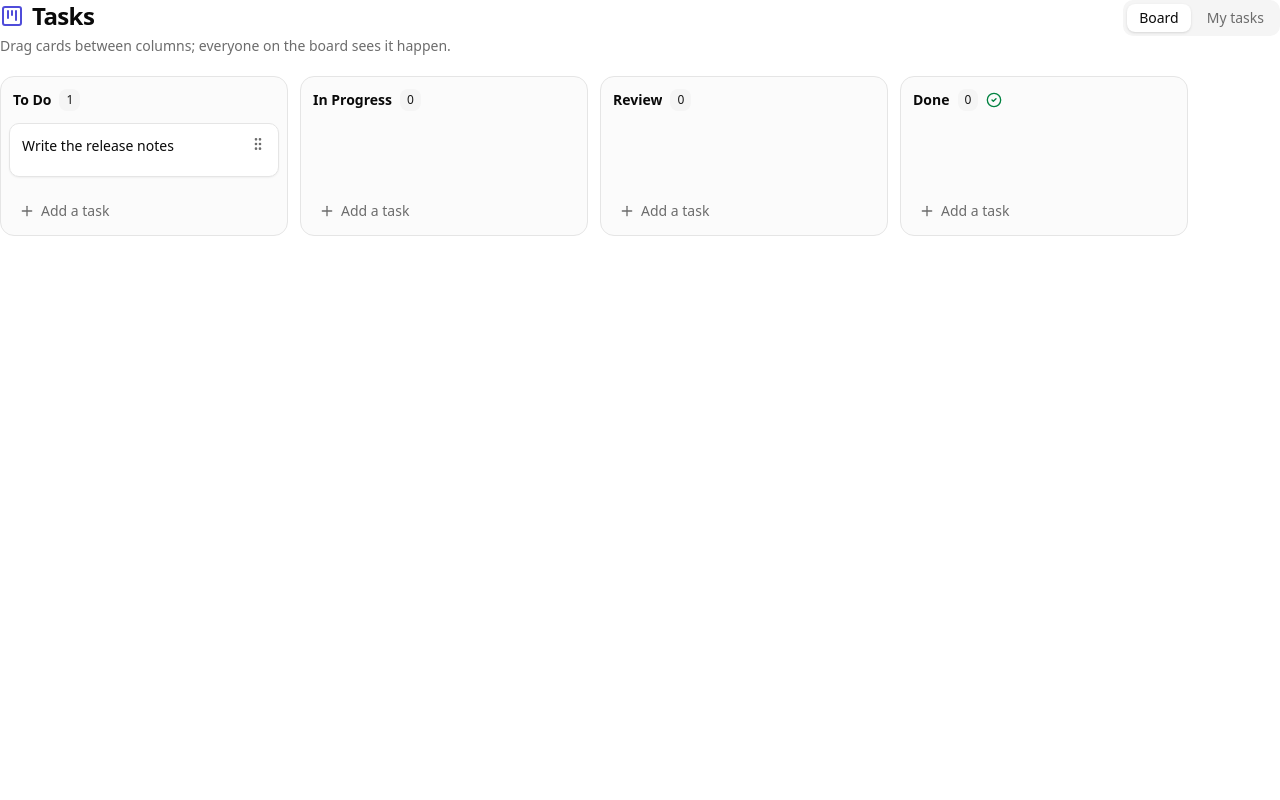
Test: <TasksPage /> board › opens a task, edits it and saves
Click the button "Write the release notes".
click(132, 146)  # box [22, 136, 242, 155]
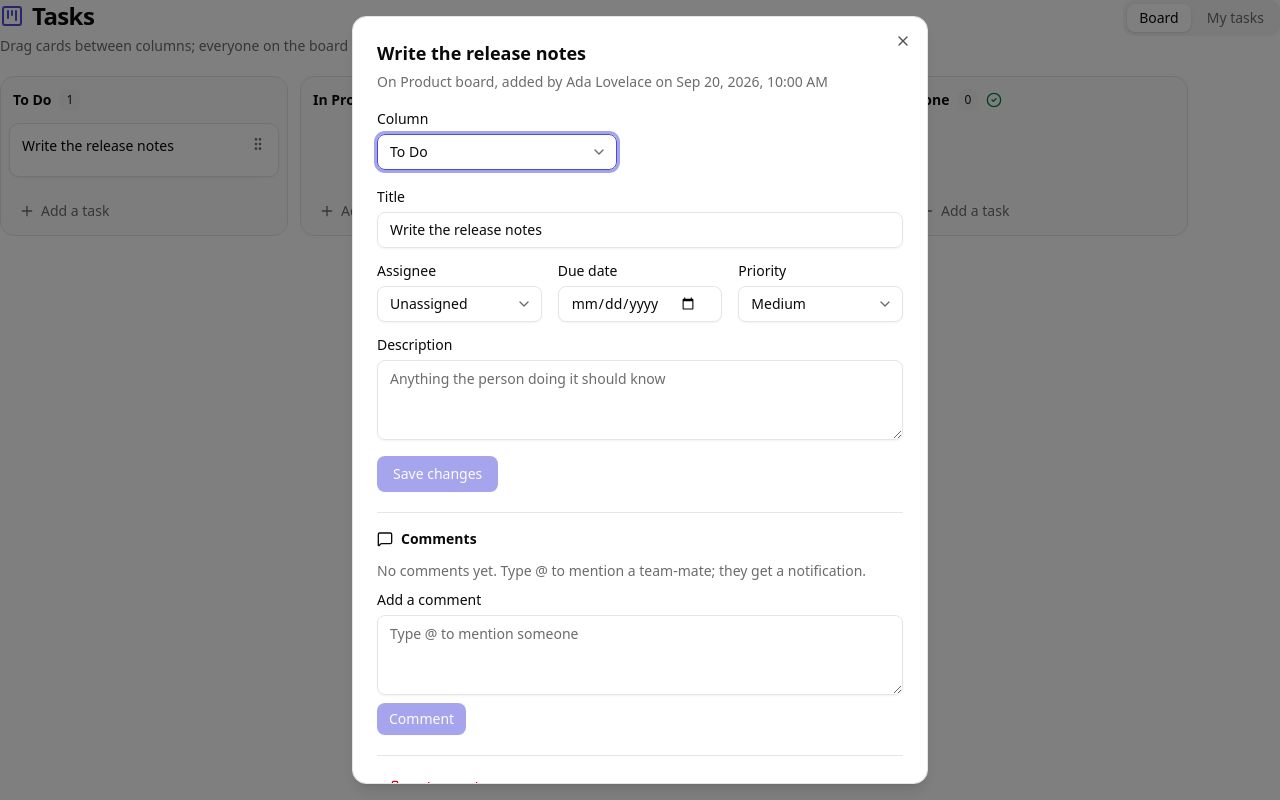
Replace the text in the field labelled "Title" with "Write the 1.4 release notes" at (640, 230), box [377, 212, 903, 248]
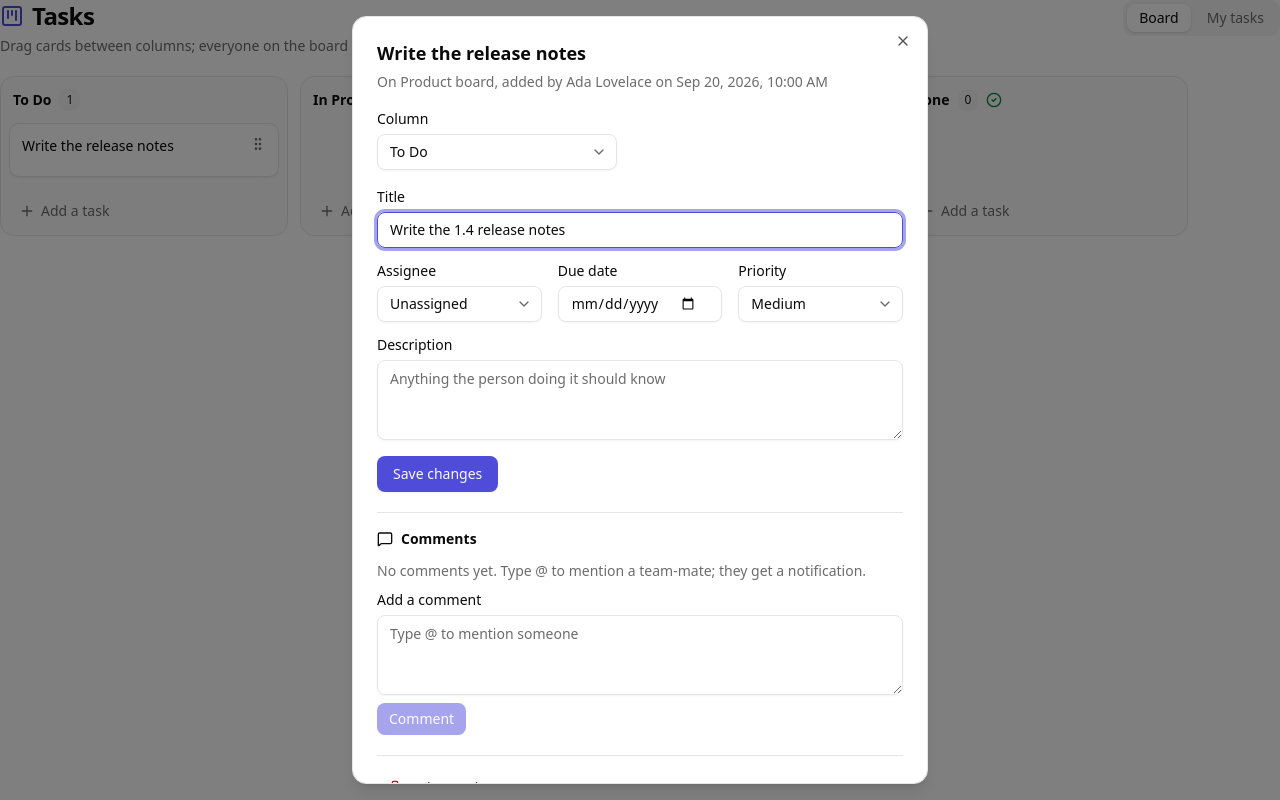
Select "Grace Hopper" in the dropdown labelled "Assignee" at (459, 304), box [377, 286, 542, 322]
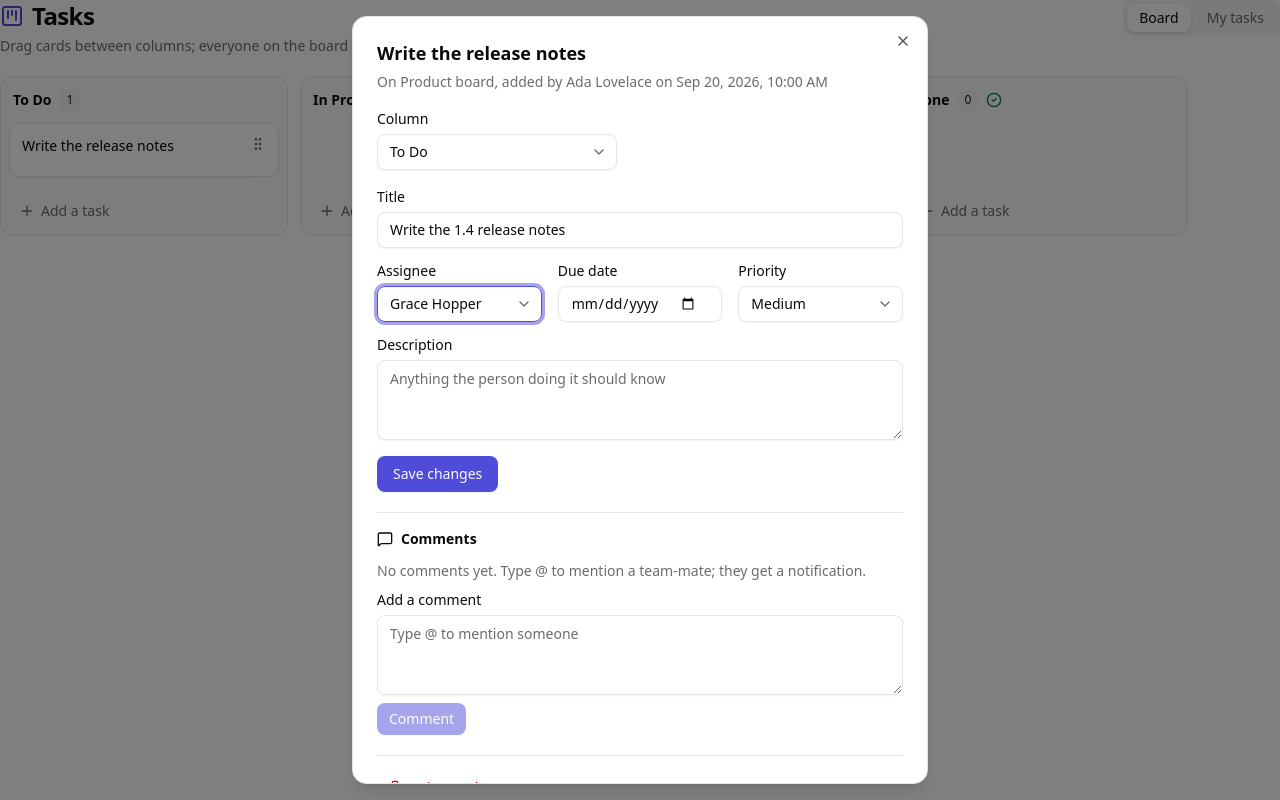
Select "High" in the dropdown labelled "Priority" at (821, 304), box [738, 286, 903, 322]
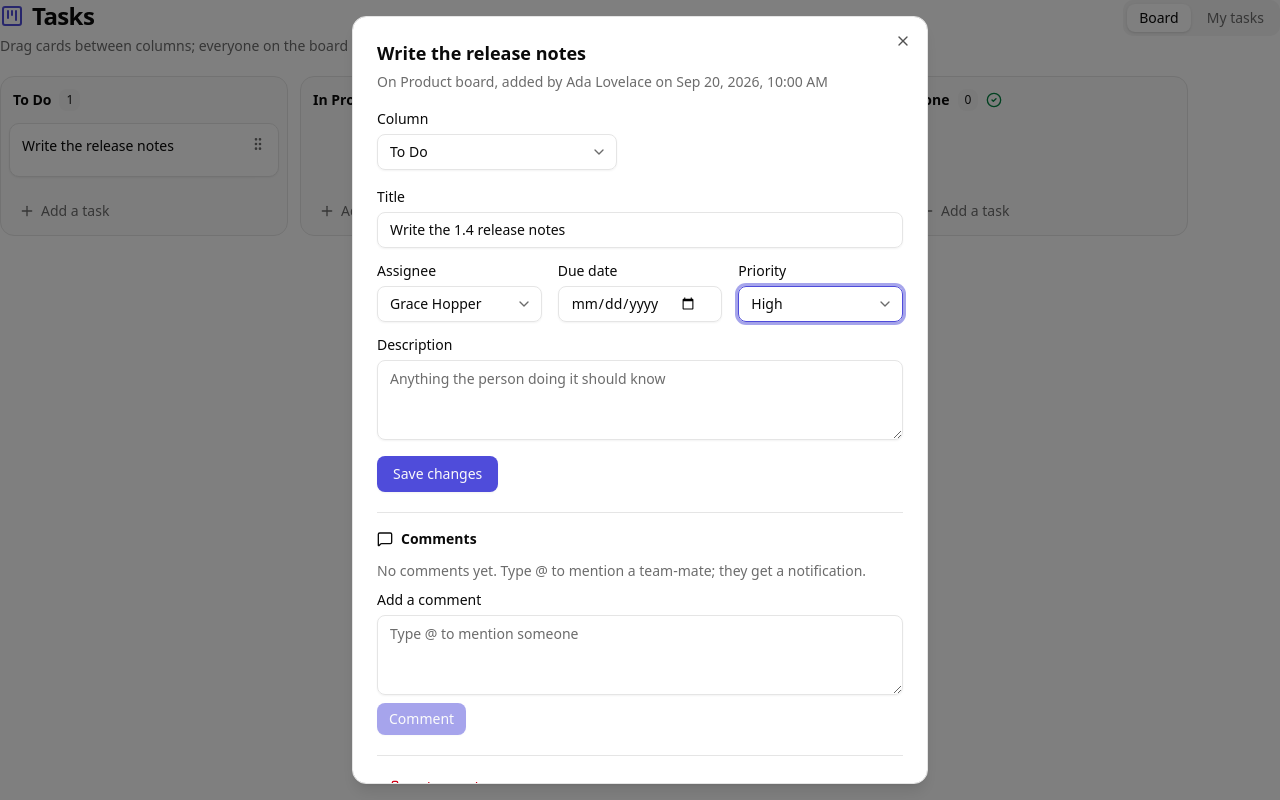
Click the button "Save changes".
click(438, 474)  # box [377, 456, 498, 492]
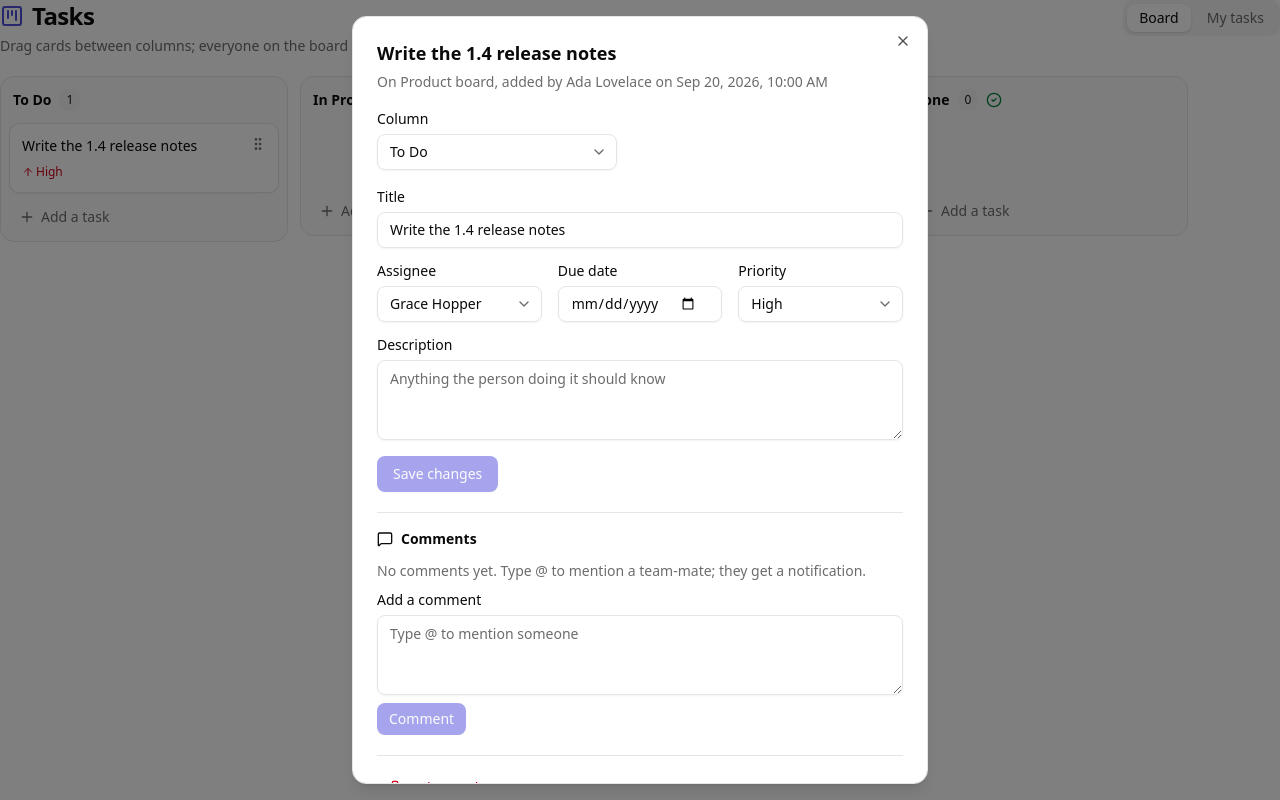
Check: the dialog "Write the 1.4 release notes" is shown, box [352, 16, 928, 784]
